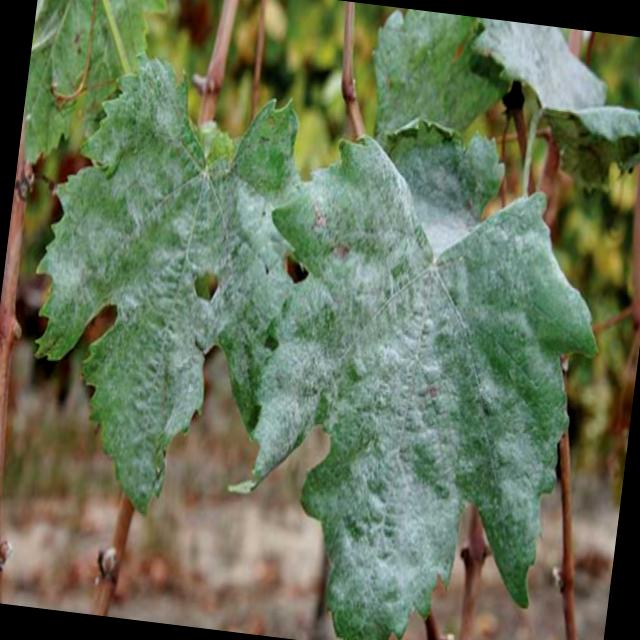powdery_mildew: (253, 136, 596, 640), (38, 56, 301, 512)
